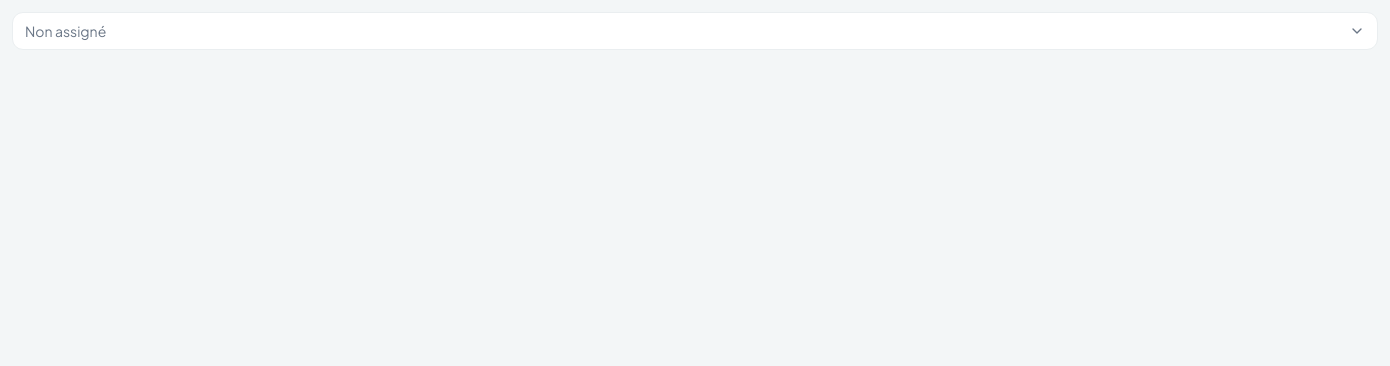
Test: SearchableSelect — recherche au numéro de département › trouve le commercial par un département affiché
Click the button with aria-label "choisir le collaborateur".
click(66, 31)  # box [12,12,1378,50]
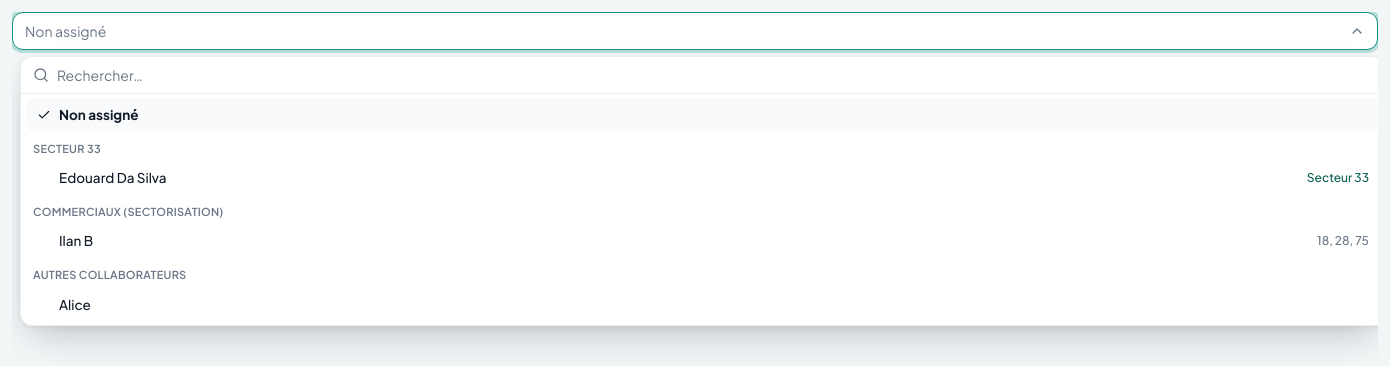
Type "28" into the dropdown.
click(715, 75); type("28")  # box [57,65,1373,85]
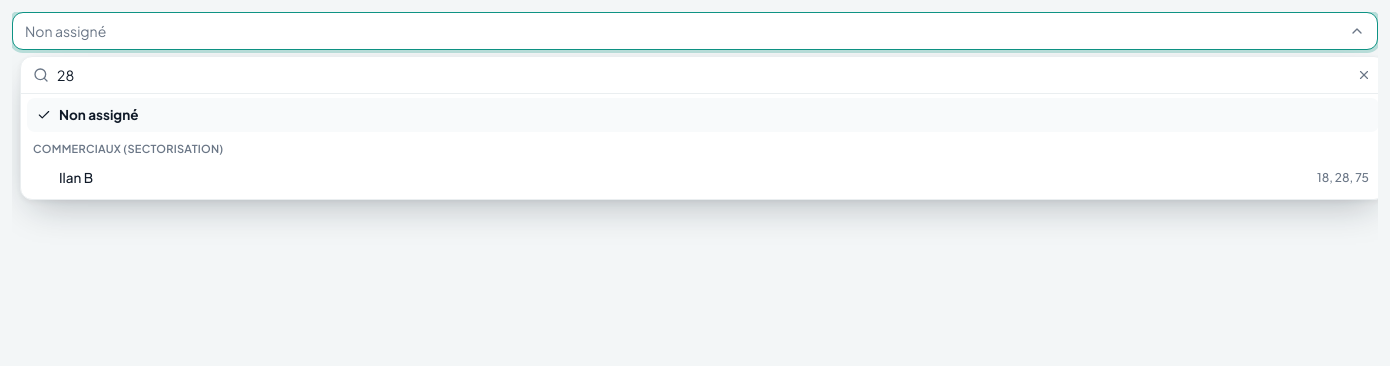
Result: the option "Ilan B 18, 28, 75" is shown at [59,169,1369,186]
Result: the option no longer shows "Edouard"
